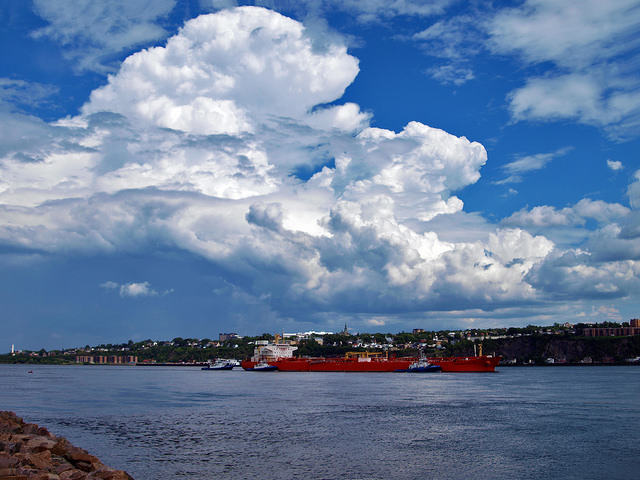tanker: (235, 331, 507, 372)
tug_boat: (406, 354, 442, 377), (201, 349, 232, 371), (246, 359, 279, 372)
